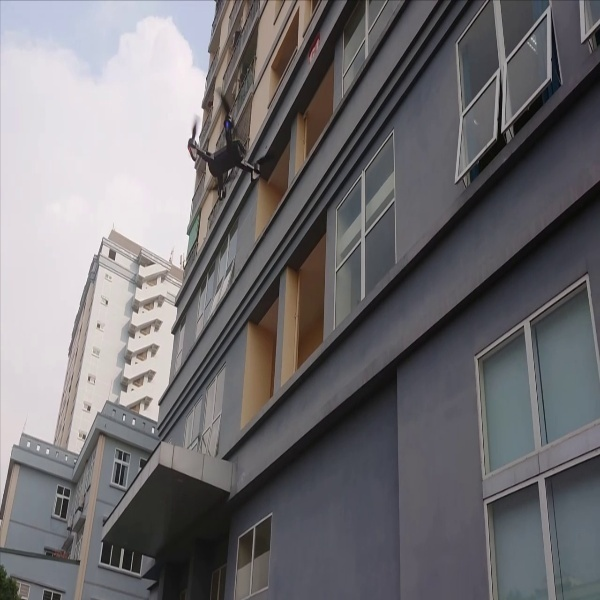drone: (180, 87, 274, 208)
